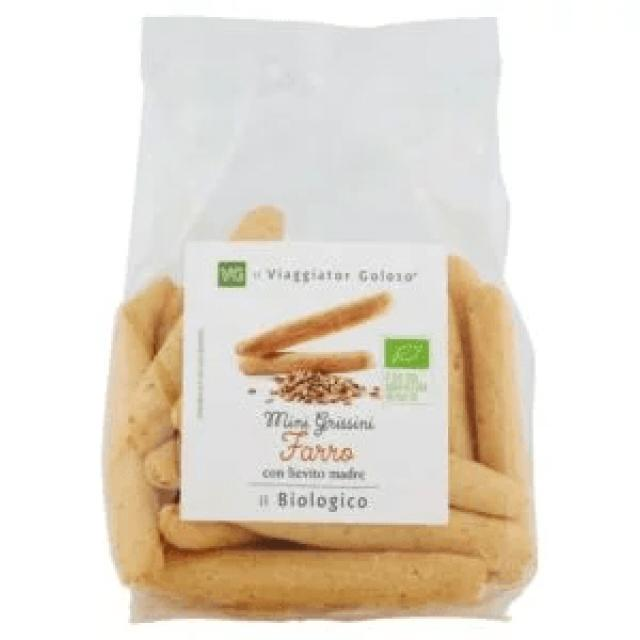Bread loaf: (102, 17, 540, 621)
